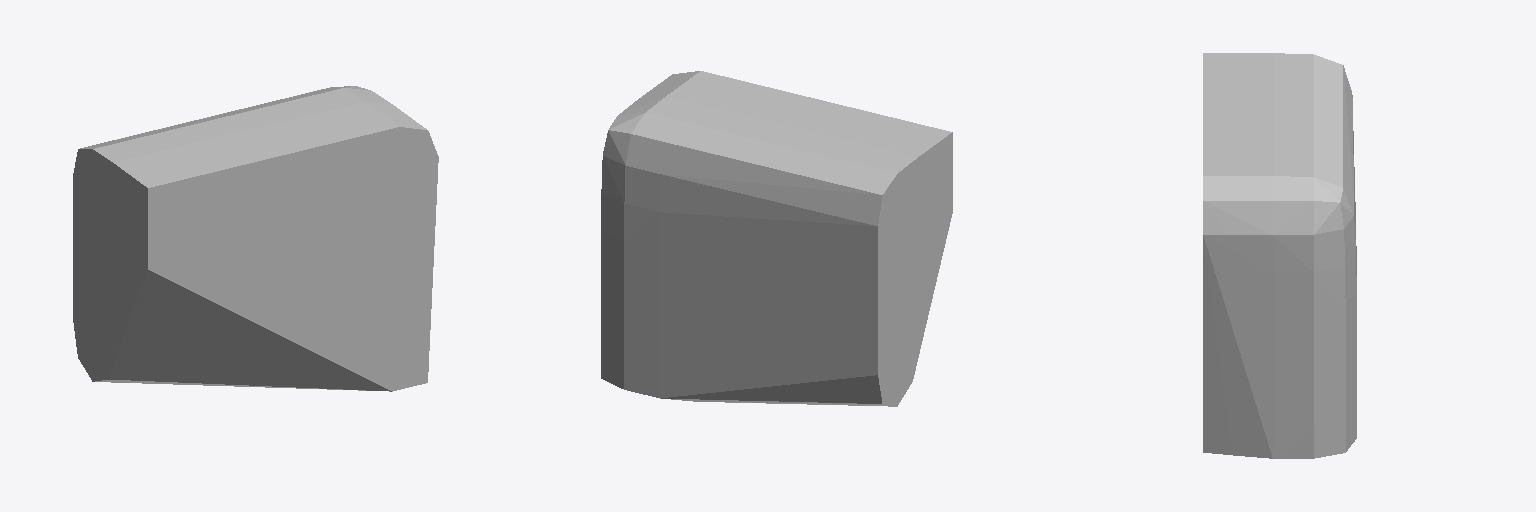
The model's file is work_bench_collision_38.obj.
The picture shows the model from 3 angles: view 1: azimuth 30°, elevation 25°; view 2: azimuth 150°, elevation 25°; view 3: azimuth 270°, elevation 25°; orthographic projection.
Size of the model in its own units: 0.152 by 0.1305 by 0.069.